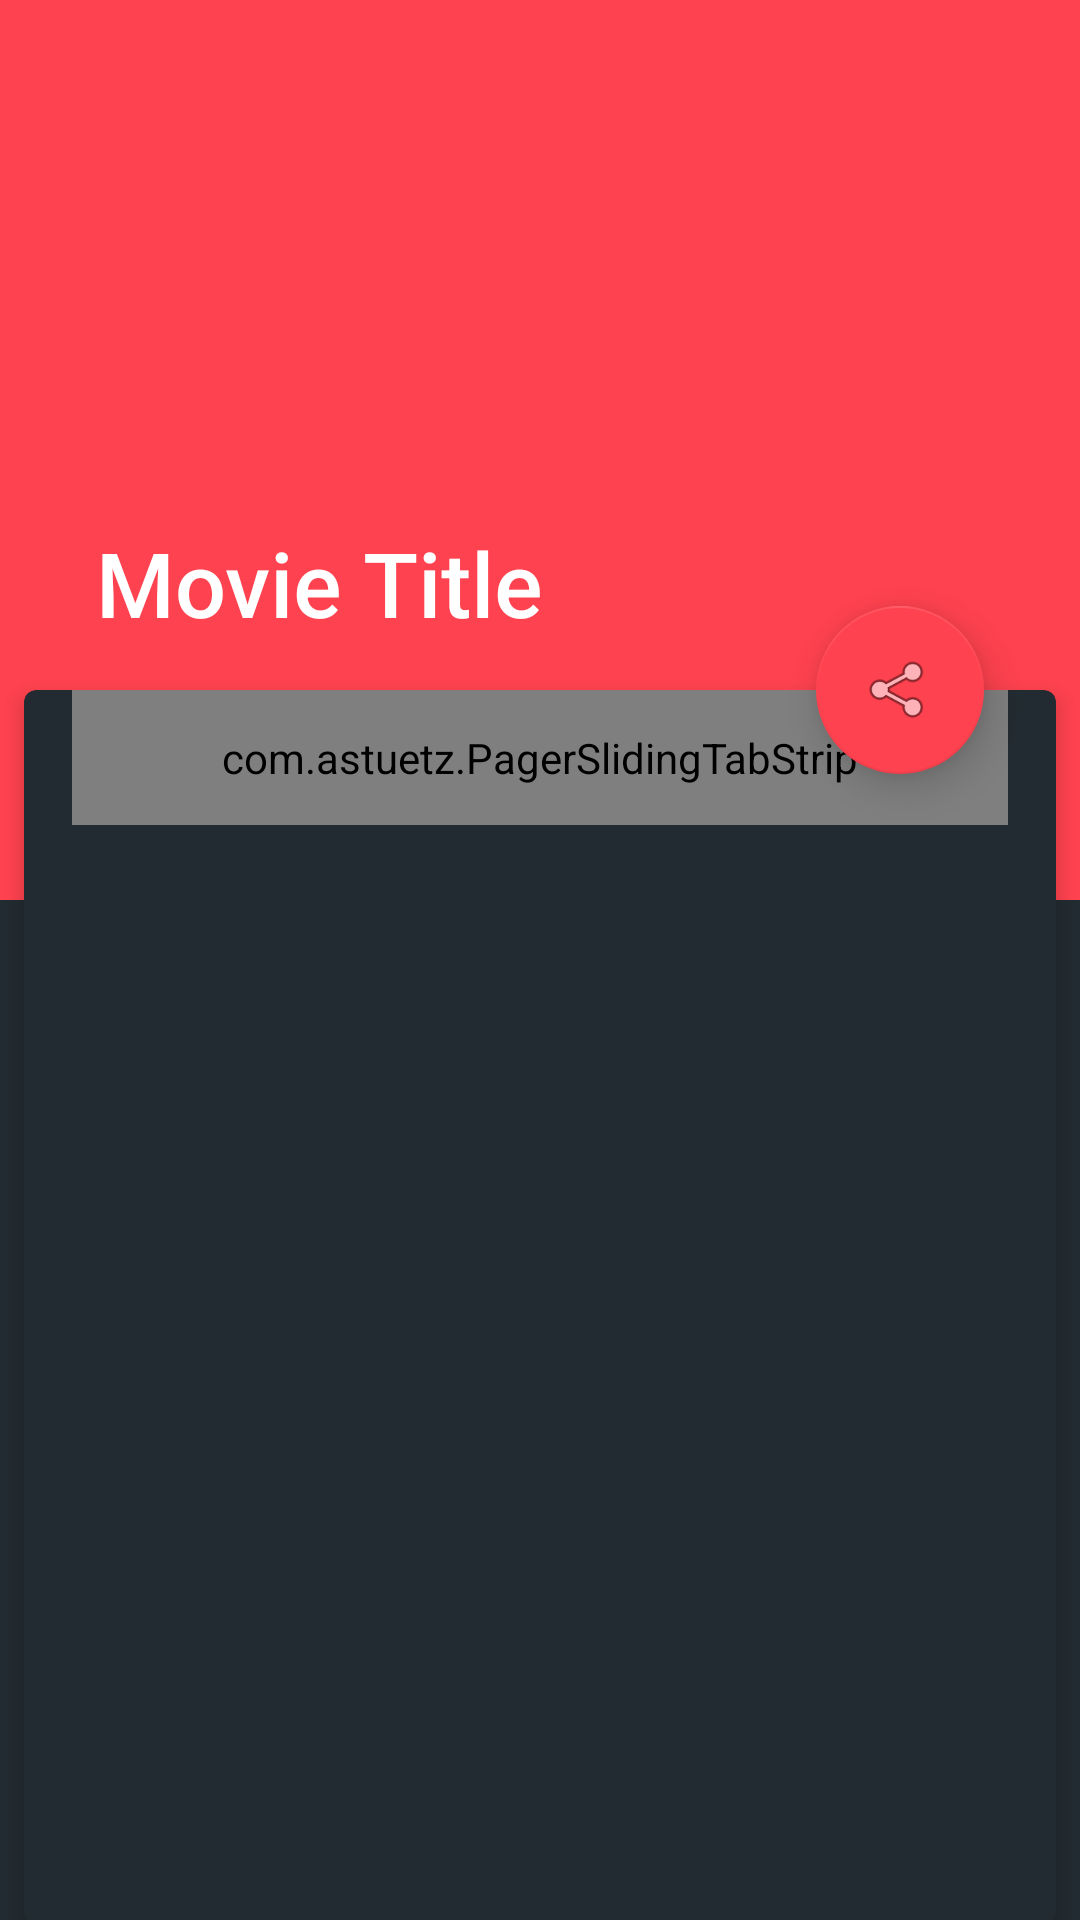

Icons on this 1080px x 1920px Android screen, each with the point to tap as [x,y]:
share: [900,690]
